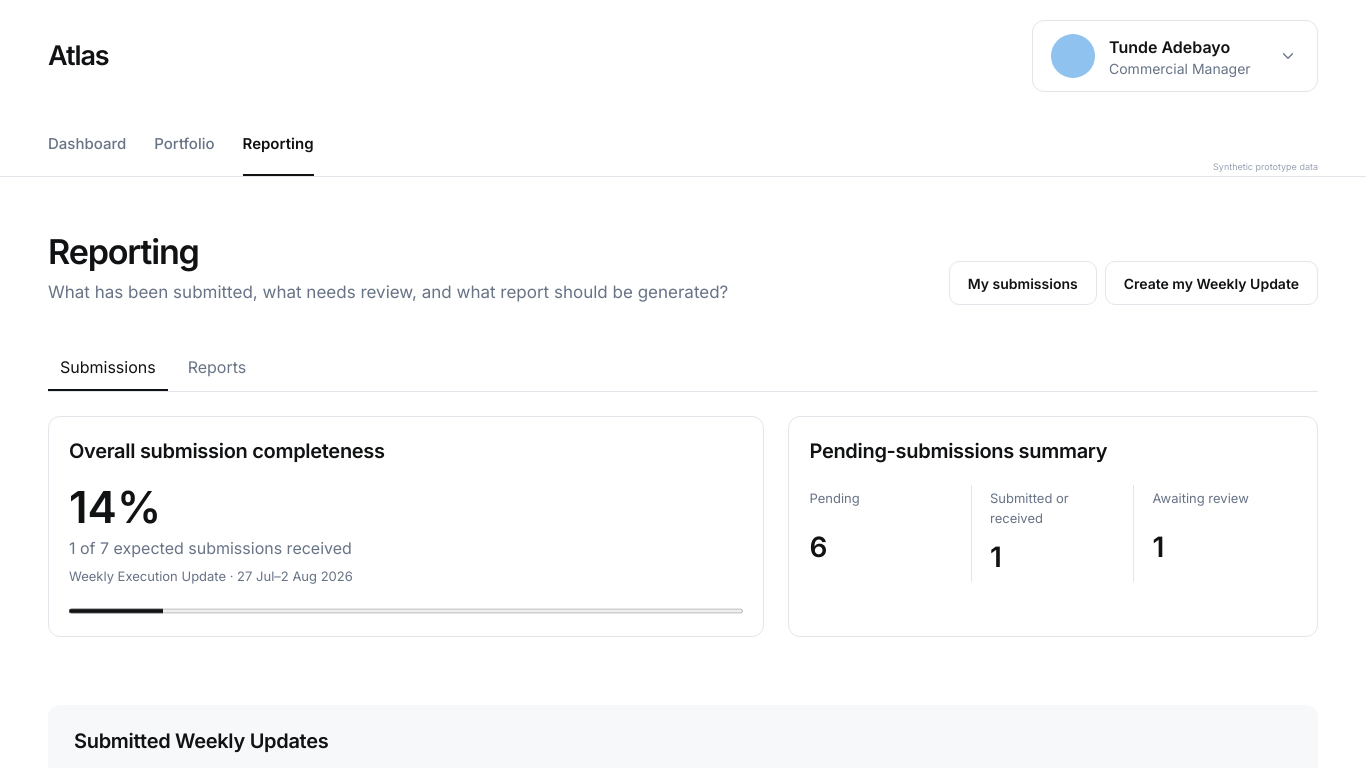
Test case: route architecture › uses the same Weekly Update component for a Commercial Manager without changing Commercial navigation
This screenshot has width=1366, height=768.
What coordinates should you click on to do the following:
click the button "Create my Weekly Update"
I would click on:
 (1211, 283)
Its box is [1105,261,1318,305].
(page scrolled)
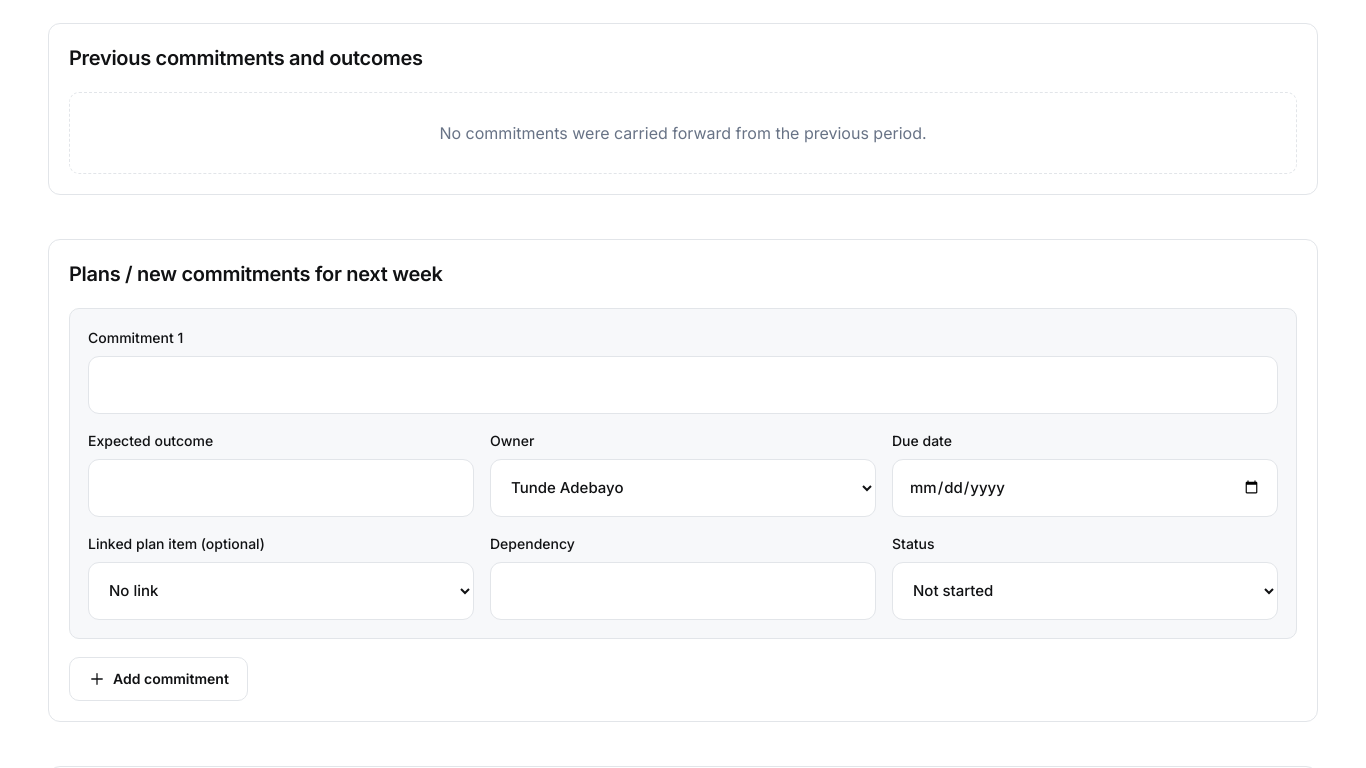
Now the field labelled "Commitment 1" is shown, box [88,356,1278,414]
